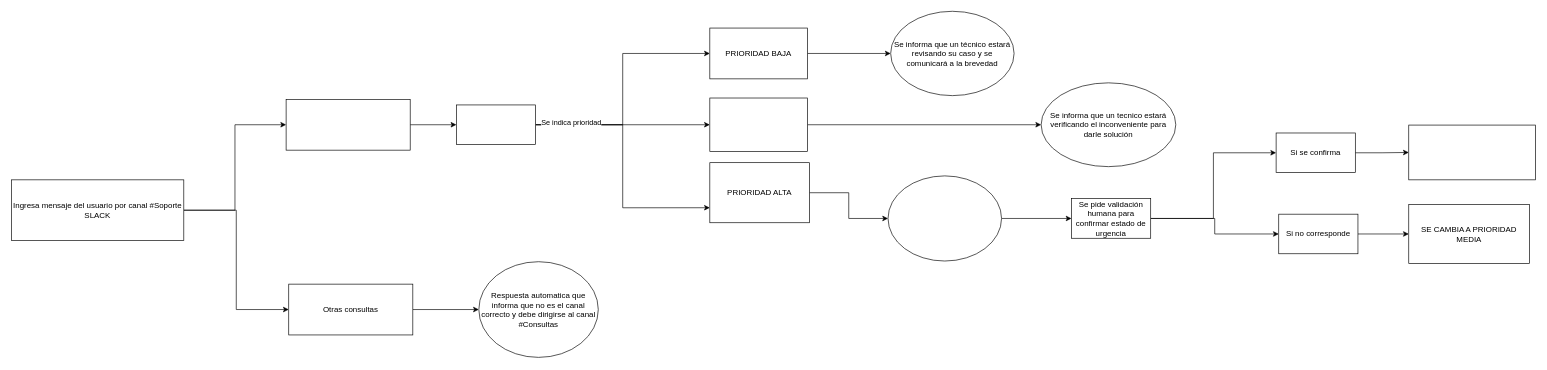
This 1547x370 diagram has some shape labels left out. Each missing label, with the centre of its shape:
Consulta Tecnica: [347,124]
PRIORIDAD MEDIA: [758,124]
SE ENVIA MAIL PARA CONFIRMAR ESTADO ALTA CON INFORMACION DEL CASO: [1471,152]
Se indica problema tecnico del usuario: [496,124]
Se informa que será atendido inmediatamente: [944,218]
